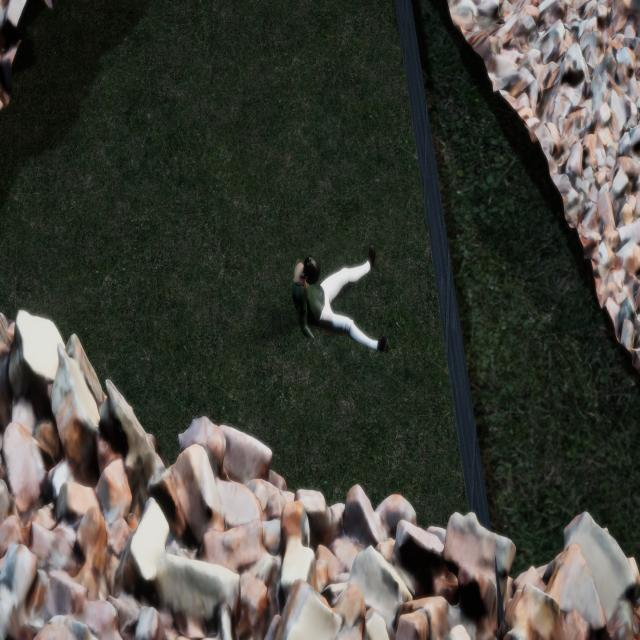Human: (279, 233, 392, 380)
